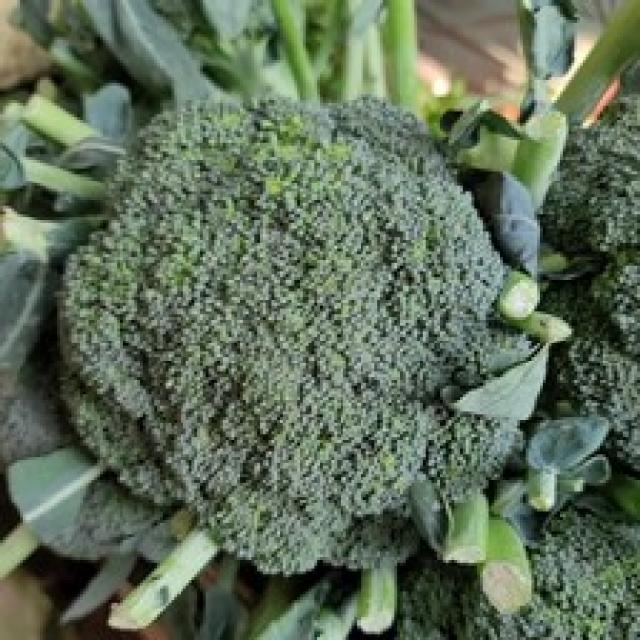Broccoli: (64, 102, 529, 574), (64, 102, 528, 574)
